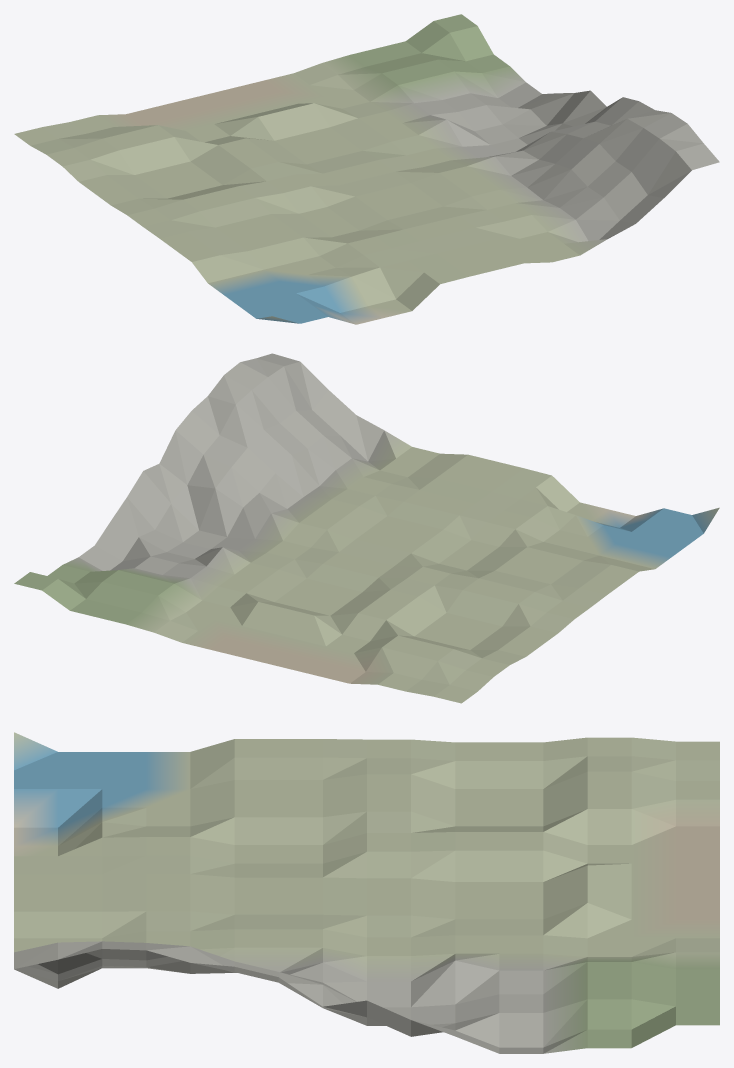
3 renders of one model, top to bottom at view 1: azimuth 30°, elevation 25°; view 2: azimuth 150°, elevation 25°; view 3: azimuth 270°, elevation 25°, orthographic. The views are drawn at different scales.
Bounding box in the file's own units: 32 × 6.07 × 32.
